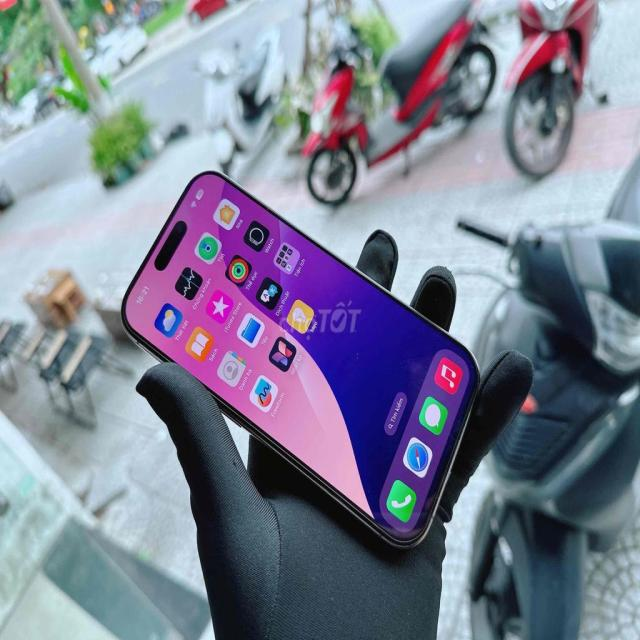gen_16: (116, 167, 482, 555)
